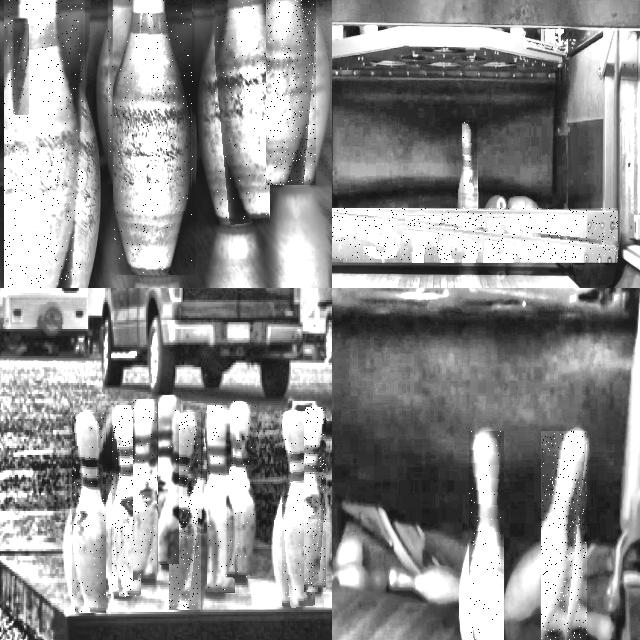bowling-pins: (5, 0, 83, 288), (114, 0, 193, 273), (216, 0, 269, 220), (542, 431, 587, 640), (267, 0, 316, 185), (469, 431, 502, 640), (73, 414, 105, 612), (282, 411, 314, 606), (170, 414, 199, 609), (112, 405, 141, 596), (228, 402, 258, 577), (108, 0, 136, 183), (207, 406, 233, 591), (133, 400, 157, 577), (305, 407, 326, 590), (159, 396, 179, 563), (16, 26, 29, 115), (462, 123, 475, 212)
sweep board: (332, 216, 618, 260)
